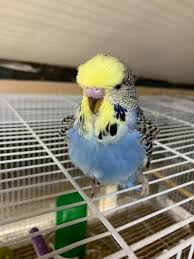budgie: (60, 53, 155, 198)
